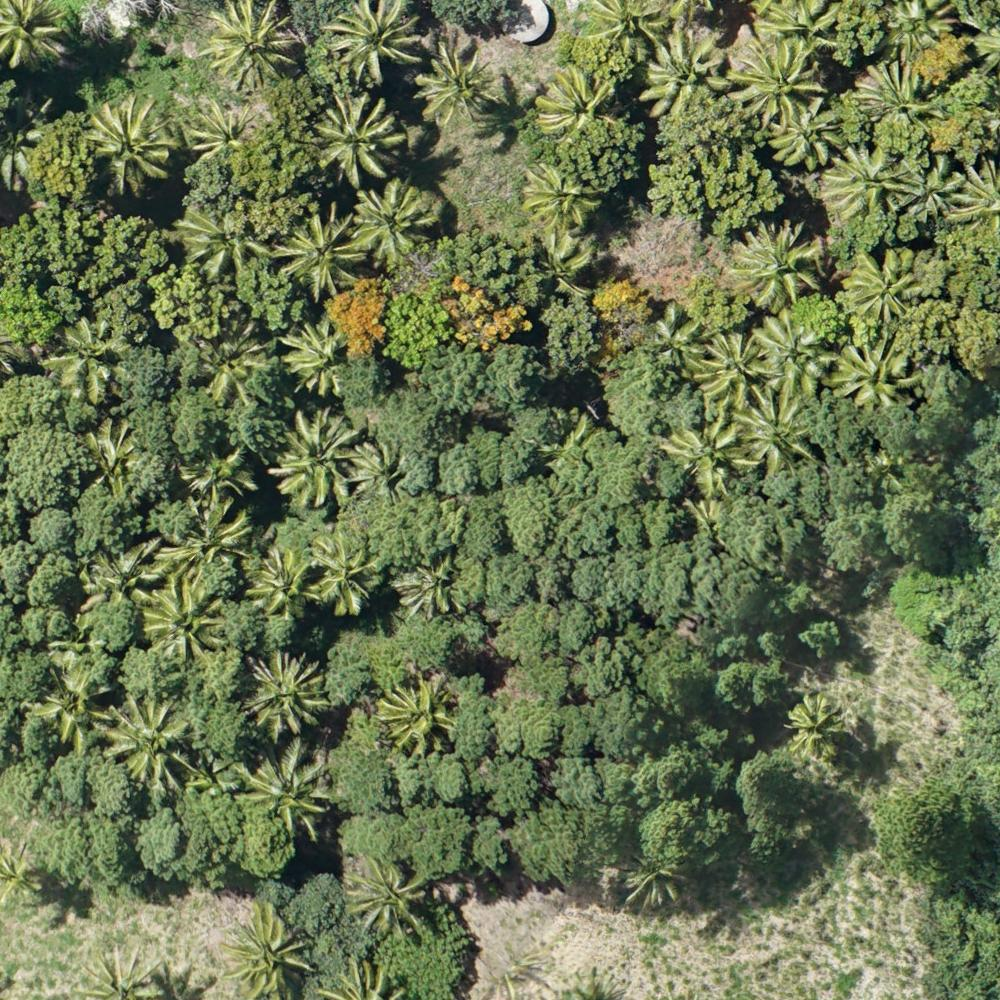Palm: (733, 221, 828, 313), (220, 904, 311, 997), (273, 406, 359, 504), (240, 739, 328, 834), (102, 696, 192, 785), (87, 96, 172, 190), (325, 1, 422, 83), (833, 332, 932, 411), (275, 212, 369, 295), (312, 95, 401, 182), (135, 580, 225, 666), (731, 38, 820, 123), (205, 2, 297, 84), (30, 662, 117, 746), (347, 184, 435, 265), (246, 649, 329, 734), (646, 33, 731, 116), (695, 328, 778, 410), (348, 850, 422, 941), (668, 413, 749, 496), (374, 676, 454, 759), (181, 200, 263, 280), (534, 59, 616, 139), (304, 530, 381, 614), (278, 314, 353, 400), (739, 389, 814, 475), (751, 312, 830, 393), (51, 317, 124, 402), (857, 59, 943, 131), (828, 140, 902, 222), (841, 245, 922, 319), (420, 45, 491, 124), (767, 97, 843, 168), (523, 161, 603, 227), (249, 543, 319, 618), (897, 150, 964, 227), (189, 100, 255, 167), (348, 441, 409, 509), (784, 692, 850, 754)
